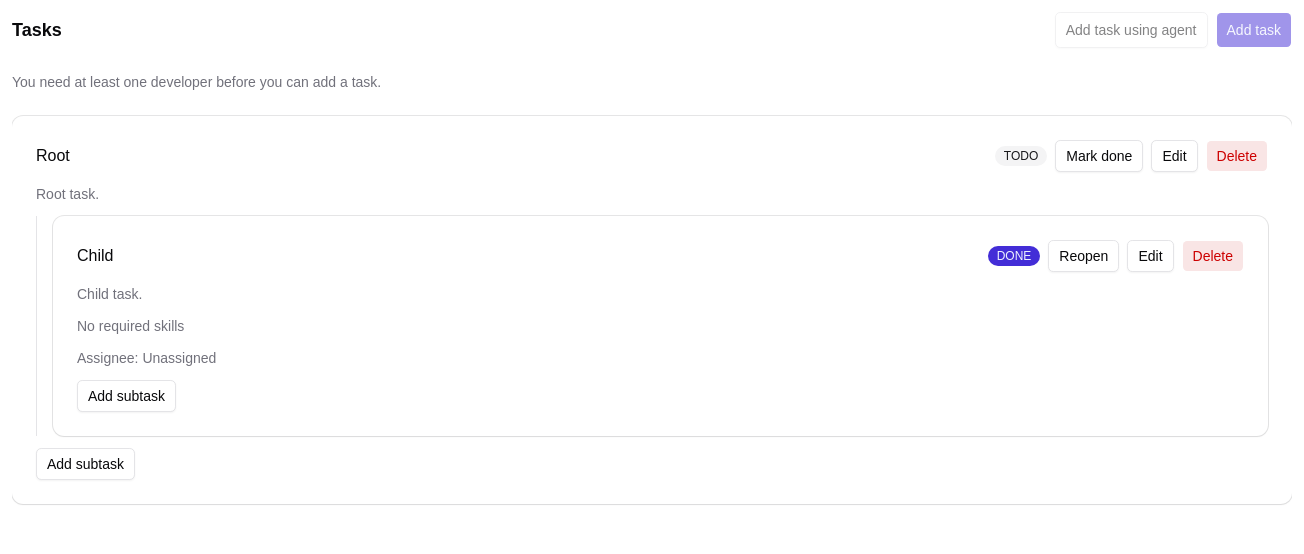
TasksPage › shows root-down guidance when COMPLETED_ANCESTOR is returned
The image size is (1304, 554).
Expected: the text "Child" is shown, 77,244 -> 114,268
Click the button "Reopen".
click(1084, 256)  # box 1048,240 -> 1119,272
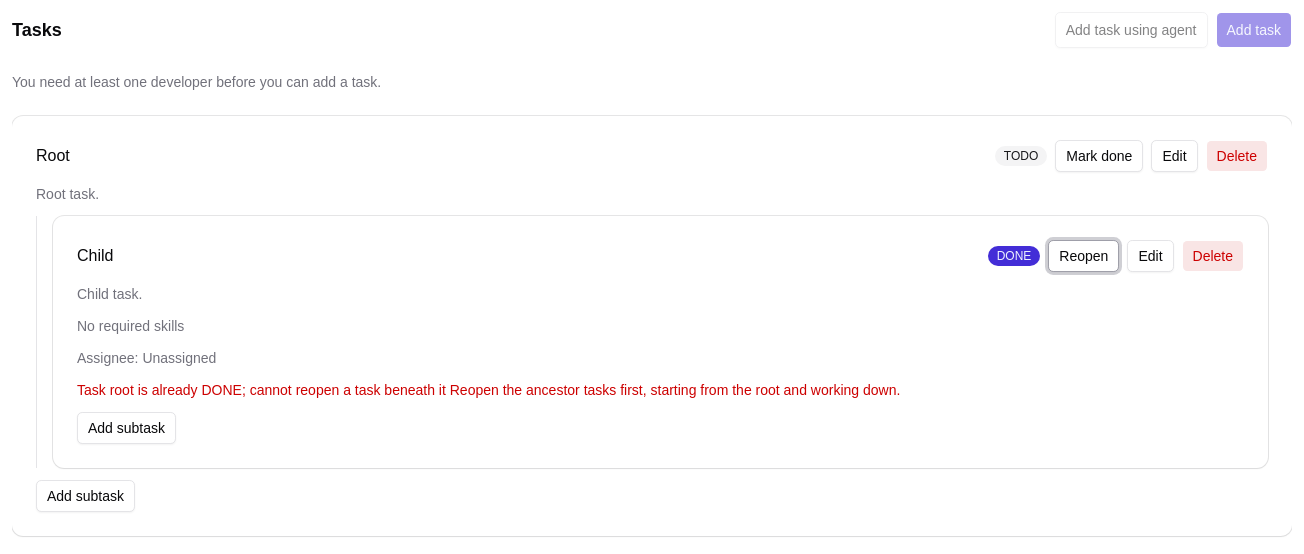
Expected: the icon "DONE" is shown, 988,246 -> 1040,266
Expected: the text "Task root is already DONE; cannot reopen a task beneath it Reopen the ancestor tasks first, starting from the root and w" is shown, 77,382 -> 900,398
